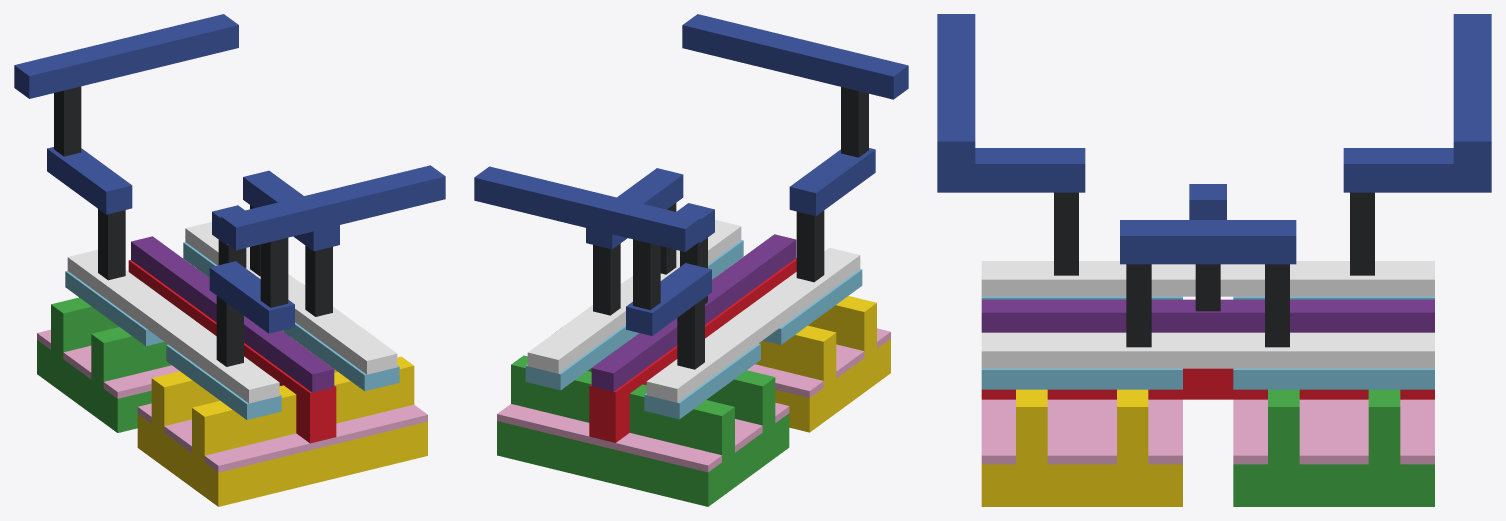
The model's file is INV.obj.
3 renders of one model, left to right at view 1: azimuth 30°, elevation 25°; view 2: azimuth 150°, elevation 25°; view 3: azimuth 270°, elevation 25°, orthographic. The views are drawn at different scales.
Parts seen in each view (by area): view 1: group_0_3888547, group_0_16768282, group_0_16448250, group_0_2829873, group_0_4634441, group_0_15708628, group_0_8768998, group_0_8273816, group_0_15277357; view 2: group_0_3888547, group_0_4634441, group_0_16448250, group_0_2829873, group_0_16768282, group_0_15708628, group_0_8768998, group_0_8273816, group_0_15277357; view 3: group_0_3888547, group_0_16448250, group_0_15708628, group_0_4634441, group_0_16768282, group_0_8273816, group_0_8768998, group_0_2829873, group_0_15277357.
Part boxes in pixels (bbox=[...]): group_0_3888547: bbox=[14, 14, 445, 333]; group_0_16768282: bbox=[137, 329, 427, 506]; group_0_16448250: bbox=[67, 222, 397, 403]; group_0_2829873: bbox=[54, 86, 332, 366]; group_0_4634441: bbox=[37, 270, 304, 432]; group_0_15708628: bbox=[37, 329, 427, 472]; group_0_8768998: bbox=[65, 242, 399, 419]; group_0_8273816: bbox=[131, 236, 334, 392]; group_0_15277357: bbox=[128, 260, 336, 443]; group_0_3888547: bbox=[474, 14, 908, 335]; group_0_4634441: bbox=[497, 327, 789, 506]; group_0_16448250: bbox=[527, 220, 860, 402]; group_0_2829873: bbox=[593, 87, 868, 369]; group_0_16768282: bbox=[713, 268, 890, 432]; group_0_15708628: bbox=[497, 328, 890, 472]; group_0_8768998: bbox=[525, 240, 862, 419]; group_0_8273816: bbox=[591, 234, 796, 391]; group_0_15277357: bbox=[589, 258, 796, 442]; group_0_3888547: bbox=[937, 14, 1491, 264]; group_0_16448250: bbox=[981, 261, 1434, 368]; group_0_15708628: bbox=[981, 399, 1434, 464]; group_0_4634441: bbox=[1233, 389, 1434, 506]; group_0_16768282: bbox=[981, 389, 1182, 506]; group_0_8273816: bbox=[981, 299, 1434, 332]; group_0_8768998: bbox=[981, 296, 1434, 389]; group_0_2829873: bbox=[1054, 192, 1374, 347]; group_0_15277357: bbox=[981, 368, 1434, 399].
Bounding box in the file's own units: 96 × 128 × 176.
